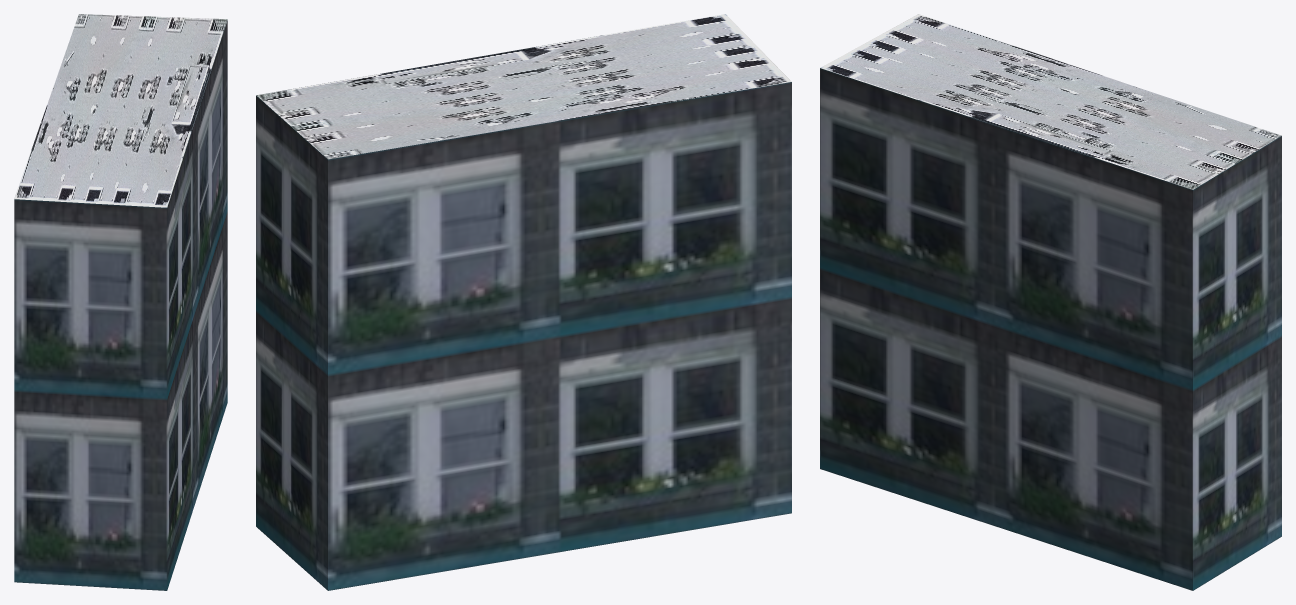
Rendered from ResTex__935.fbx.
The picture shows the model from 3 angles, left to right: view 1: azimuth 30°, elevation 25°; view 2: azimuth 150°, elevation 25°; view 3: azimuth 270°, elevation 25°; orthographic projection. The views are drawn at different scales.
Parts seen in each view (by area): view 1: CityEngineMaterial_11_m, CityEngineMaterial_m; view 2: CityEngineMaterial_11_m, CityEngineMaterial_m; view 3: CityEngineMaterial_11_m, CityEngineMaterial_m.
Boxes of the visible parts, x1,y1,x2,y2 form: CityEngineMaterial_11_m: (14,20,227,590); CityEngineMaterial_m: (14,14,227,207); CityEngineMaterial_11_m: (256,82,791,590); CityEngineMaterial_m: (256,14,791,159); CityEngineMaterial_11_m: (820,68,1281,590); CityEngineMaterial_m: (820,14,1281,189).
Size of the model in its own units: 5.65 by 6 by 6.26.
Materials: 2 (2 with a texture image).
